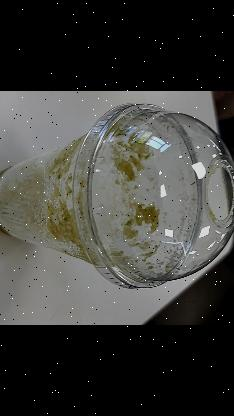Others: (0, 103, 234, 289), (75, 103, 234, 291)
